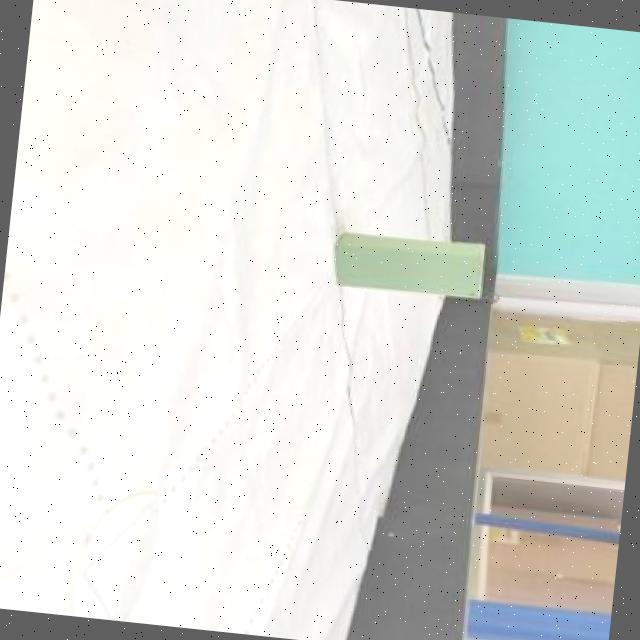greenbox: (329, 230, 485, 299)
